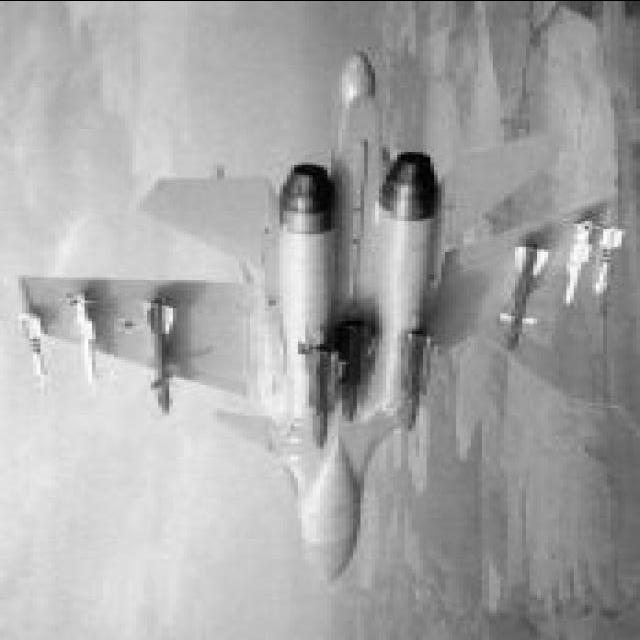missile: (497, 240, 552, 357), (142, 286, 179, 420)
